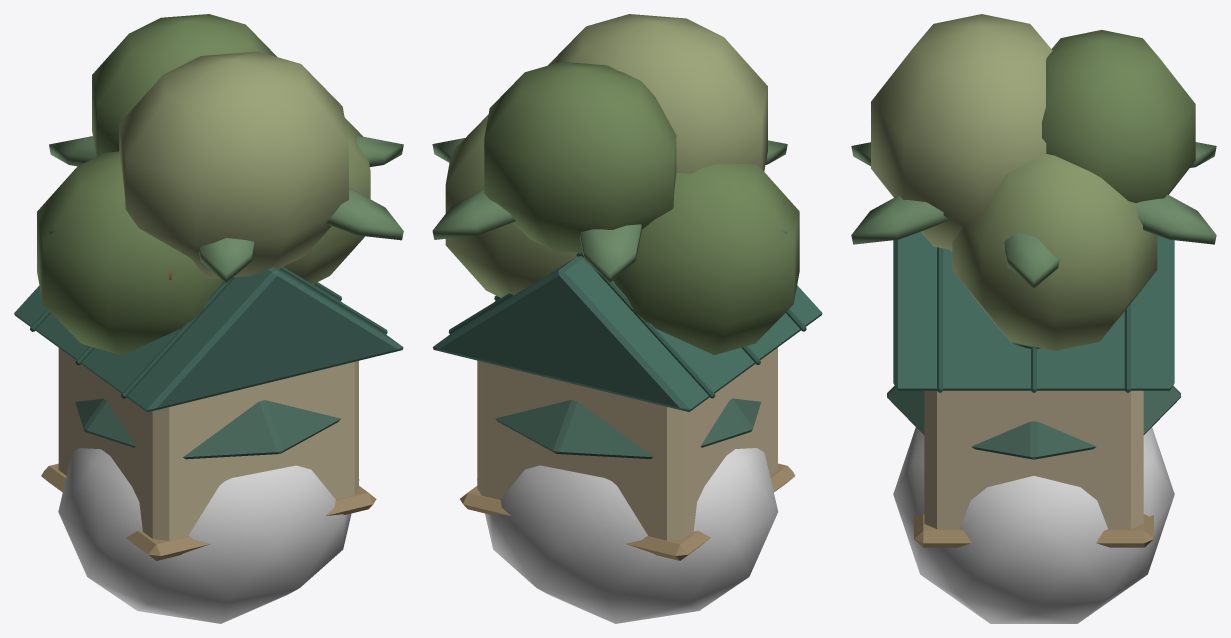
File: world-kit.glb
The picture shows the model from 3 angles, left to right: view 1: azimuth 30°, elevation 25°; view 2: azimuth 150°, elevation 25°; view 3: azimuth 270°, elevation 25°; orthographic projection. The views are drawn at different scales.
Parts seen in each view (by area): view 1: tree_meadow, cottage, rock, tree_winter, tree_coast; view 2: tree_meadow, cottage, rock, tree_winter, tree_coast; view 3: tree_meadow, cottage, rock, tree_coast, tree_winter.
Part boxes in pixels (<box>): tree_meadow: <box>37,14,370,355</box>; cottage: <box>14,267,403,560</box>; rock: <box>58,448,359,623</box>; tree_winter: <box>75,273,340,459</box>; tree_coast: <box>49,136,403,282</box>; tree_meadow: <box>445,14,799,354</box>; cottage: <box>433,252,822,560</box>; rock: <box>477,448,778,623</box>; tree_winter: <box>495,398,761,458</box>; tree_coast: <box>432,138,787,282</box>; tree_meadow: <box>871,14,1195,350</box>; cottage: <box>893,231,1174,547</box>; rock: <box>893,427,1174,623</box>; tree_coast: <box>851,142,1216,288</box>; tree_winter: <box>887,250,1180,459</box>.
Bounding box in the file's own units: 0.8228 × 1.24 × 0.7006.
